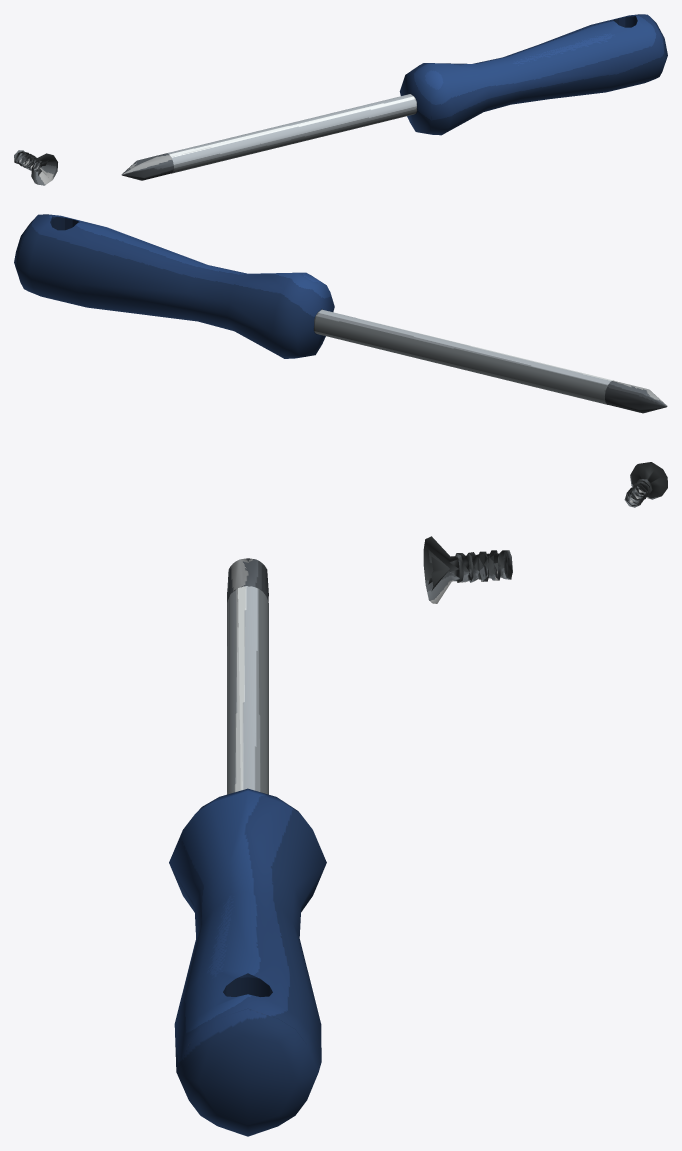
Rendered from estornillador_model.glb.
The picture shows the model from 3 angles, top to bottom: view 1: azimuth 30°, elevation 25°; view 2: azimuth 150°, elevation 25°; view 3: azimuth 270°, elevation 25°; orthographic projection. The views are drawn at different scales.
Visible parts, largest first — view 1: screwdriver; view 2: screwdriver; view 3: screwdriver.
Boxes of the visible parts, x1,y1,x2,y2 form: screwdriver: (14, 14, 667, 185); screwdriver: (14, 214, 667, 507); screwdriver: (169, 536, 512, 1136).
Bounding box in the file's own units: 0.2135 × 0.0252 × 0.0547.
Materials: 1 (1 with a texture image).
